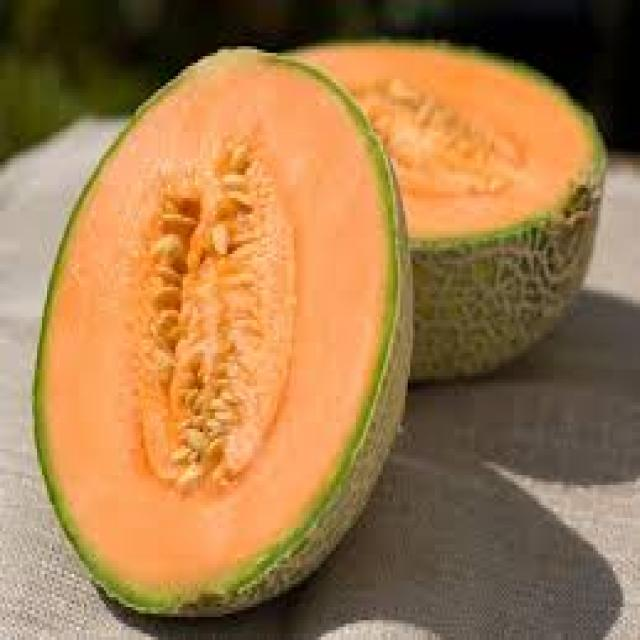cantaloupe: (35, 50, 407, 619), (304, 45, 608, 378)
